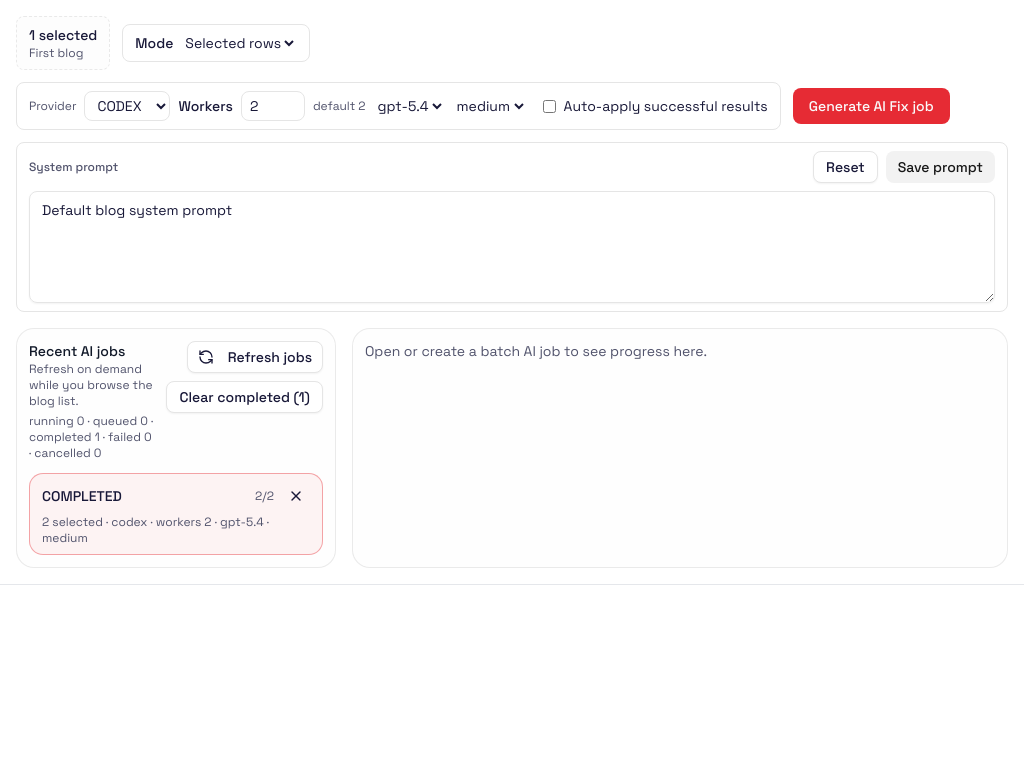
AdminBlogBatchAiPanel › keeps a terminal job visible and removable again when remove fails
Click the button named "Remove completed job".
click(296, 496)  # box [282,482,310,510]
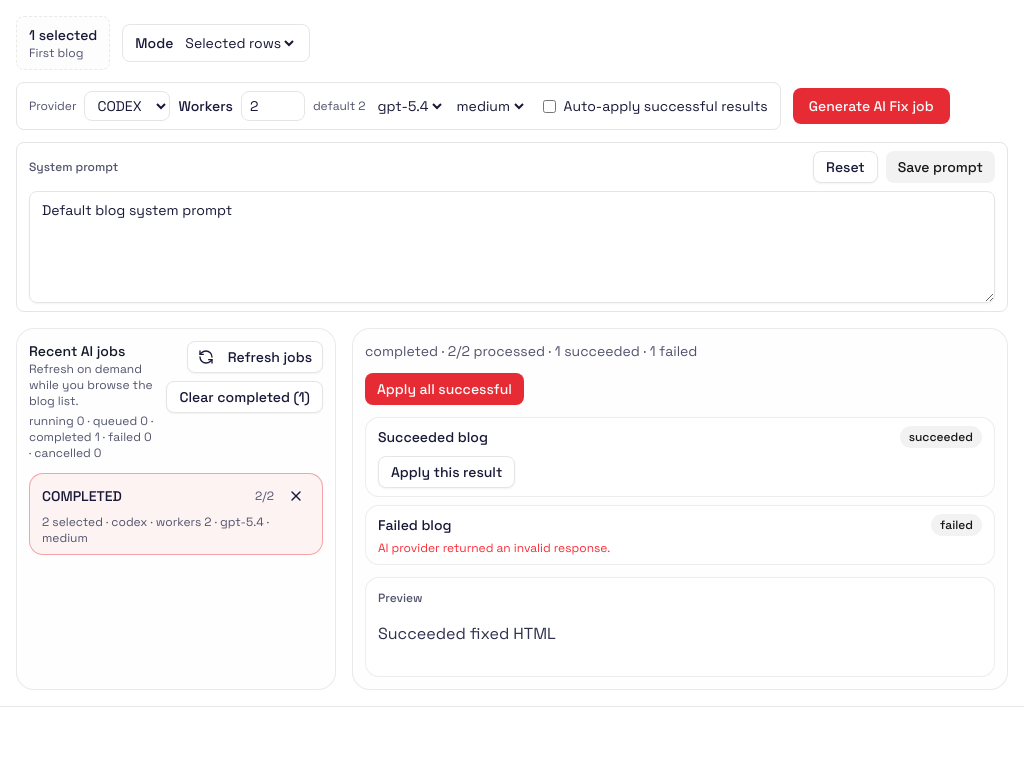
Result: the button "Succeeded blog" is shown at [378,427,888,447]
Result: the button "Failed blog" is shown at [378,515,919,535]
